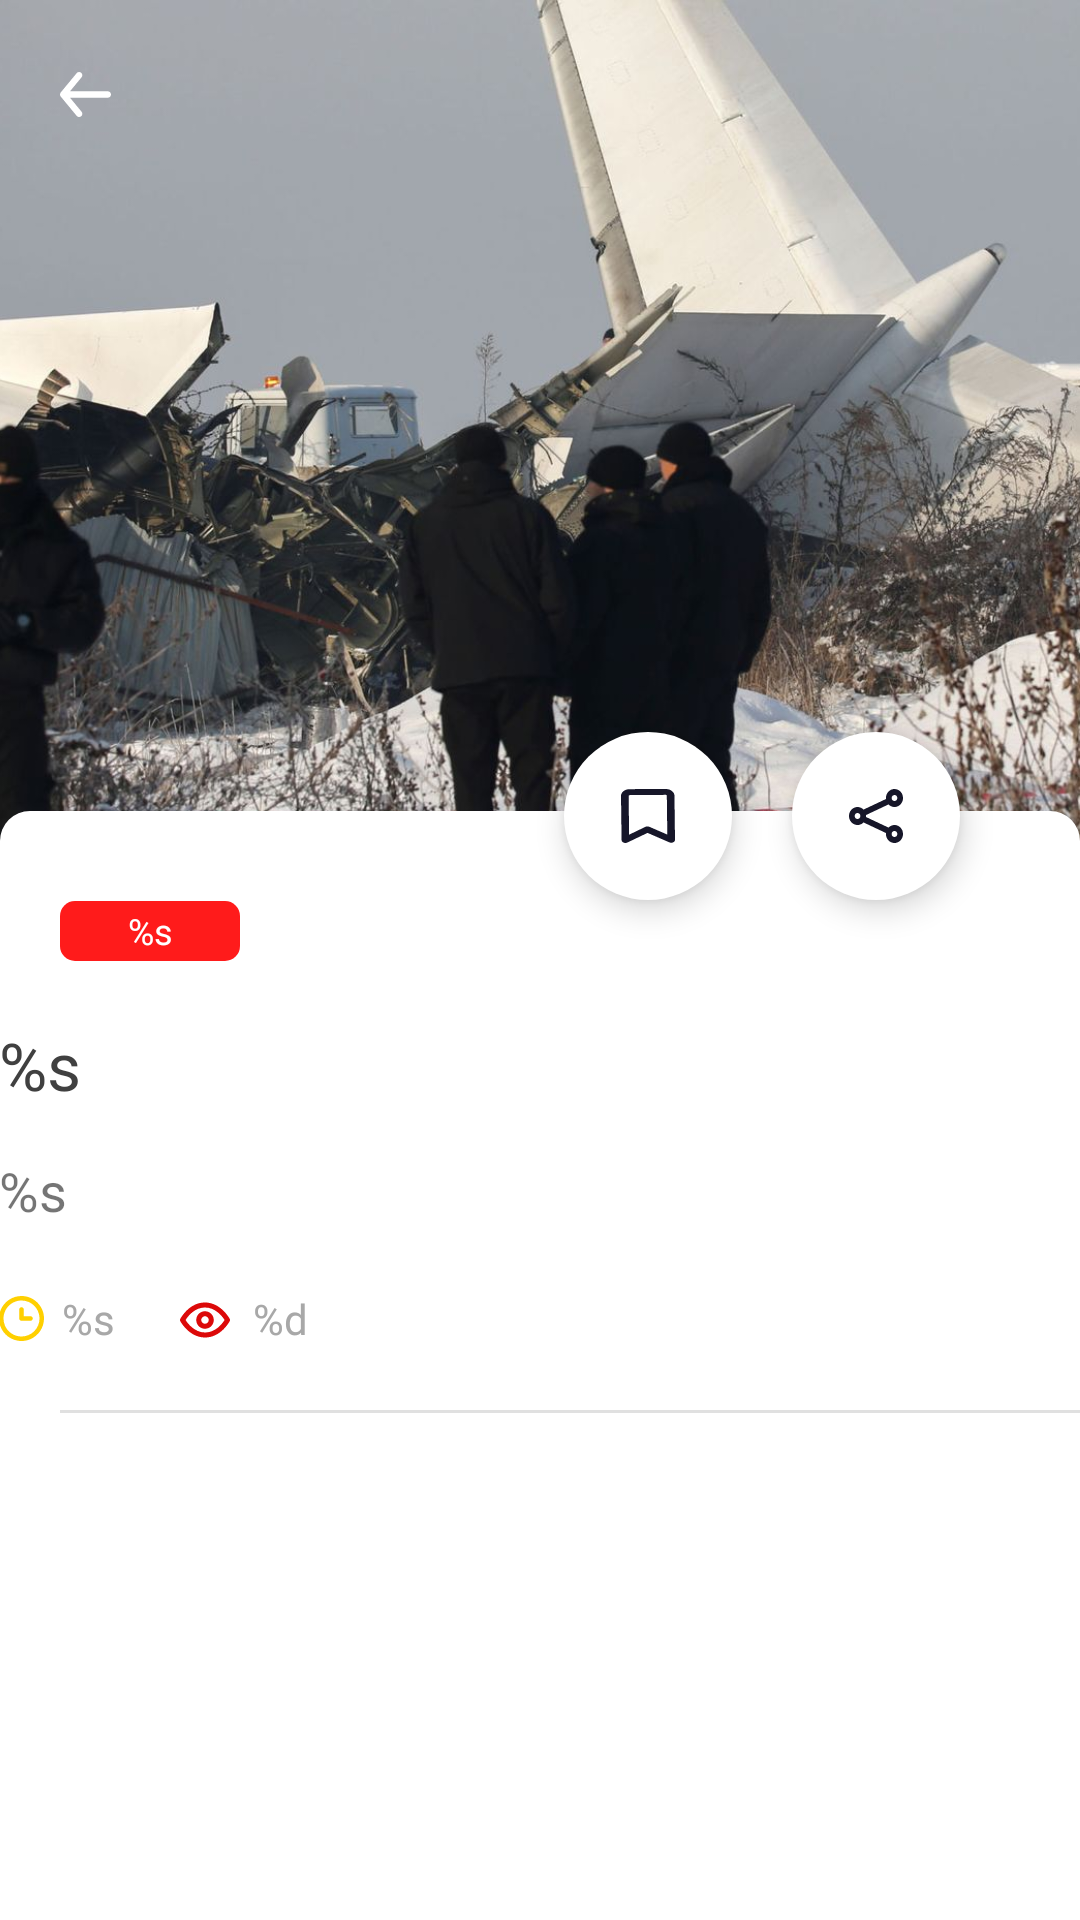

Icons on this 1080×1920 Android screen, each with the point to tap as point (x, y):
back: point (85, 94)
save: point (648, 816)
share: point (876, 816)
